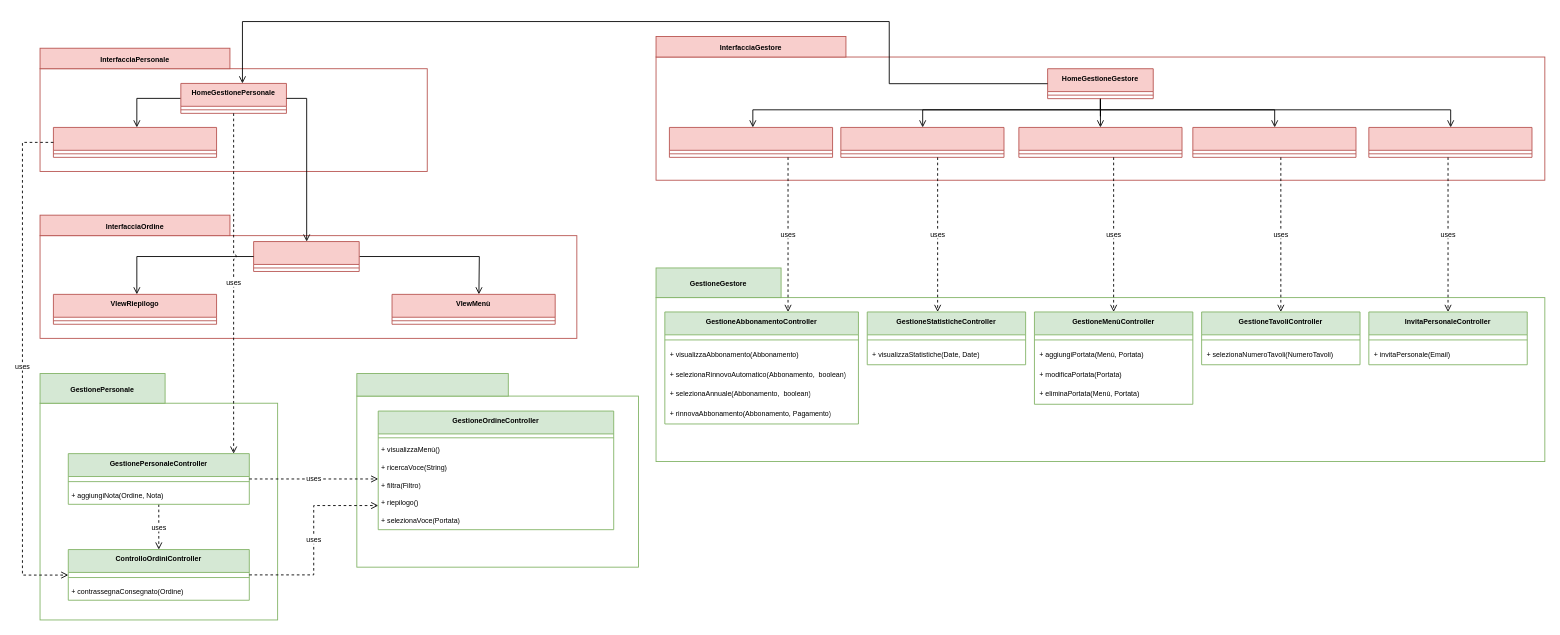
This 1560x635 diagram has some shape labels left out. The centre of each missing label's shape, as x and y in pixels:
"GestioneOrdine" goes at (432,384).
"Home Ordine" goes at (306,256).
"VIewControlloOrdini" goes at (135,142).
"VIewGestioneAbbonamento" goes at (751,142).
"VIewGestioneMenù" goes at (1100,142).
"VIewGestioneStatistiche" goes at (922,142).
"VIewGestioneTavoli" goes at (1274,142).
"VIewInvitaPersonale" goes at (1450,142).
